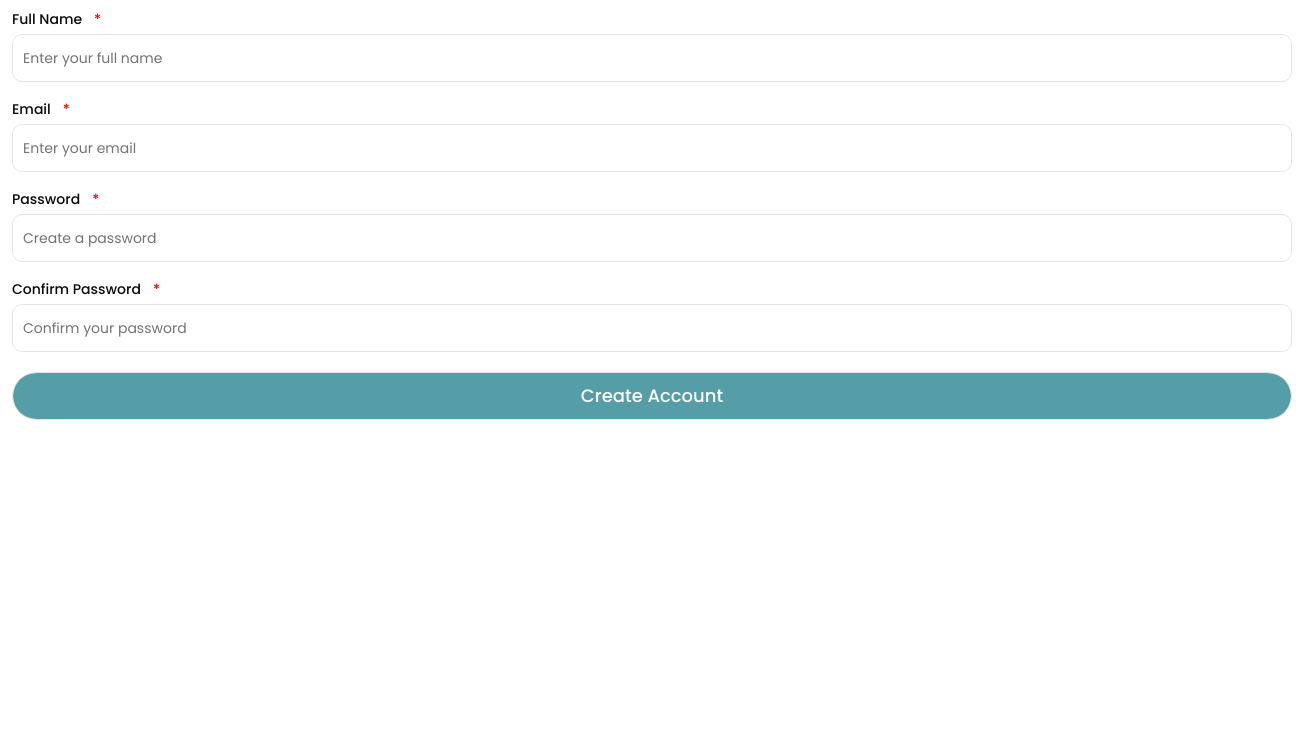
Test: SignUpForm › Validation › shows password mismatch error
This screenshot has width=1304, height=732.
Type "Password123" into the password field with placeholder "Create a password".
click(652, 238); type("Password123")  # box [12,214,1292,262]
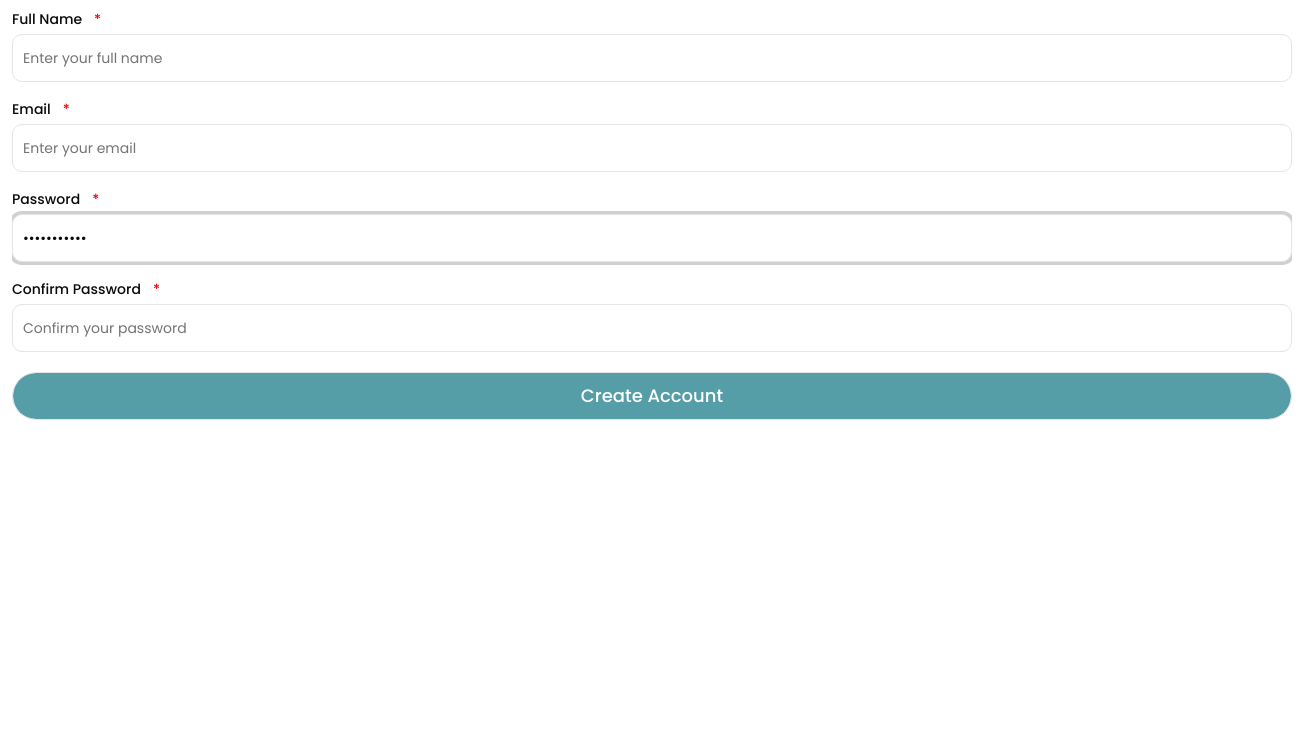
Type "Password456" into the password field labelled "Confirm Password *".
click(652, 328); type("Password456")  # box [12,304,1292,352]
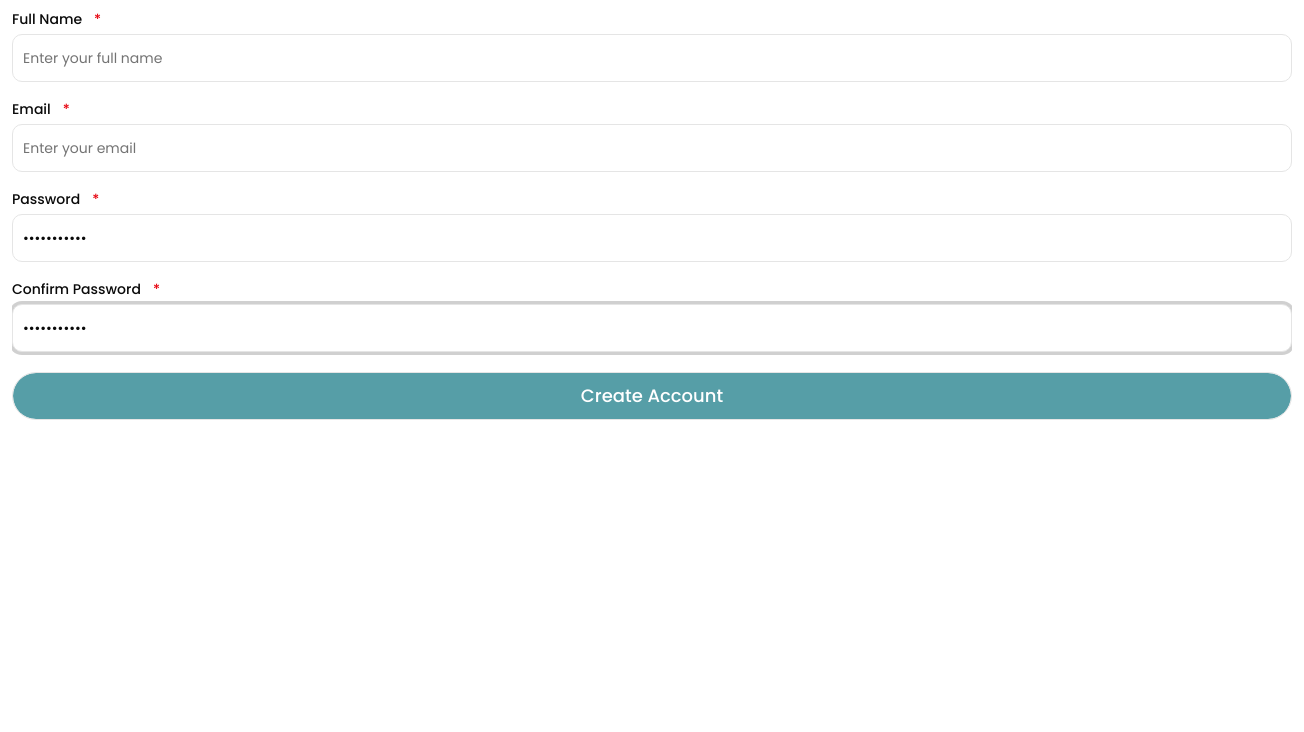
Click the button "Create Account".
click(652, 396)  # box [12,372,1292,420]
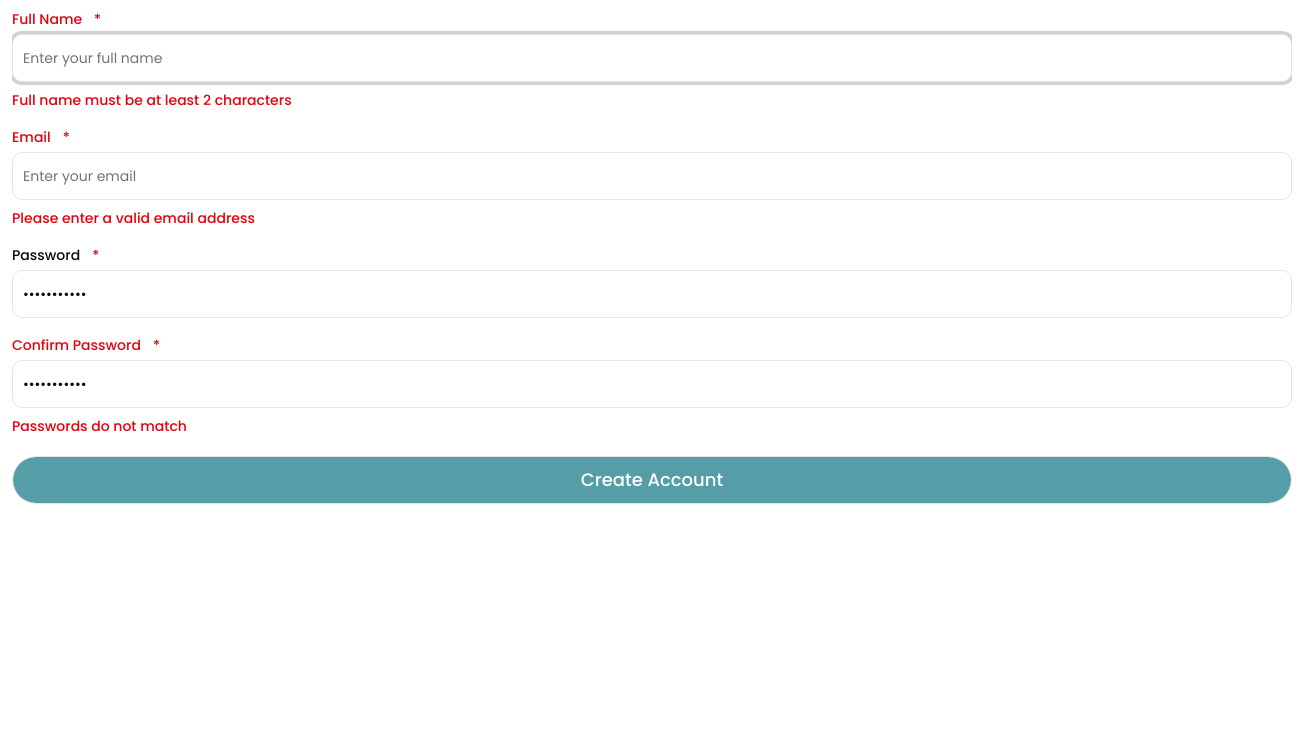
Check: the text "Passwords do not match" is shown, box [12,416,187,436]
